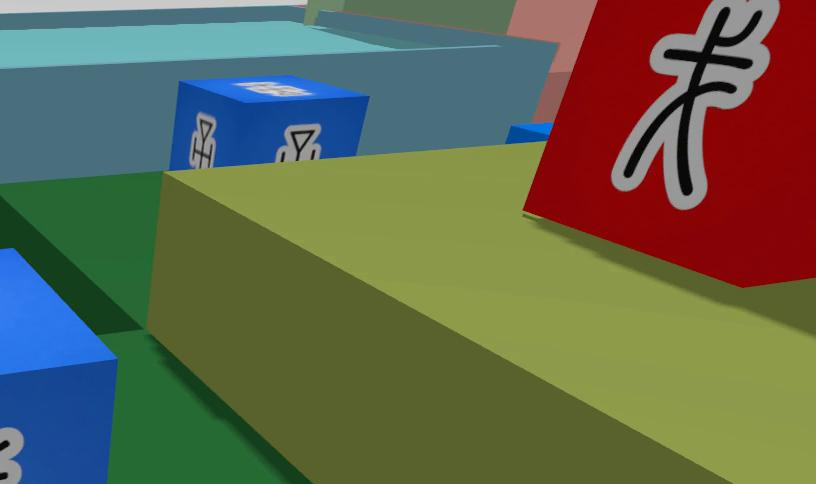KFS_FAKE: (526, 0, 815, 287), (611, 0, 778, 209)
KFS_REAL: (0, 250, 116, 484), (170, 75, 368, 169), (185, 112, 216, 168), (0, 428, 24, 484)
